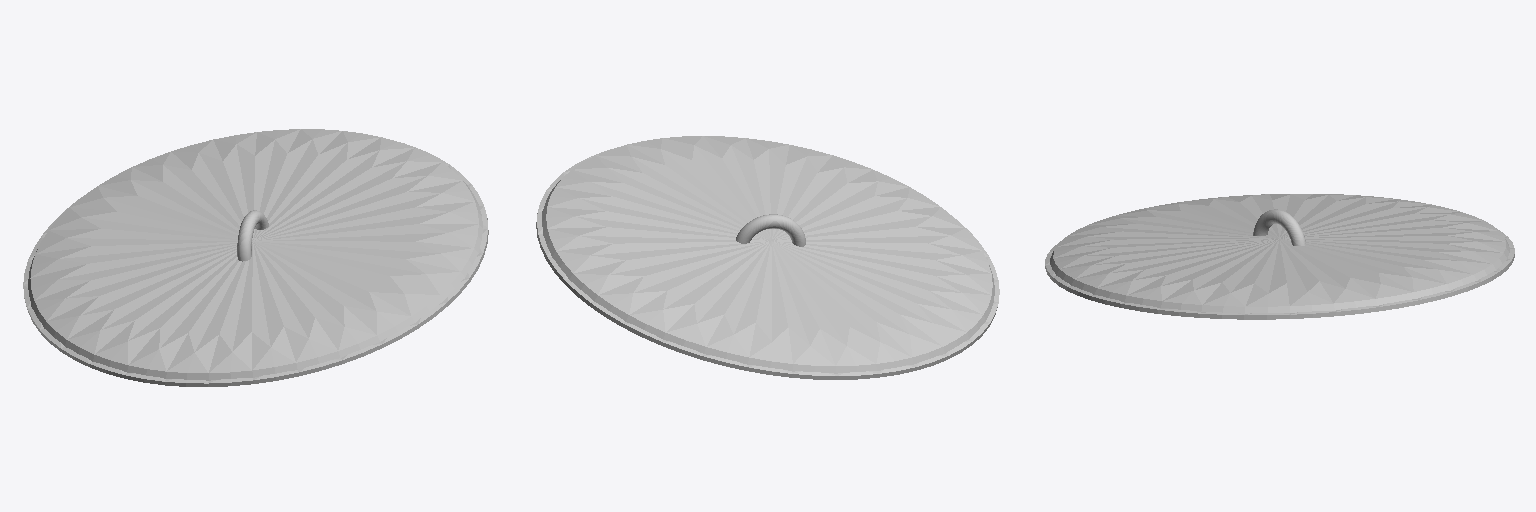
Rendered from Binlid.obj.
The picture shows the model from 3 angles: view 1: azimuth 30°, elevation 25°; view 2: azimuth 150°, elevation 25°; view 3: azimuth 270°, elevation 25°; orthographic projection.
Parts seen in each view (by area): view 1: Circle, Torus; view 2: Circle, Torus; view 3: Circle, Torus.
Boxes of the visible parts, box(x1,y1,x2,y2) form: Circle: box(23, 129, 488, 386); Torus: box(237, 210, 268, 261); Circle: box(536, 136, 999, 379); Torus: box(736, 214, 805, 246); Circle: box(1045, 194, 1514, 319); Torus: box(1253, 209, 1305, 245).
Size of the model in its own units: 2.08 by 0.4401 by 2.11.